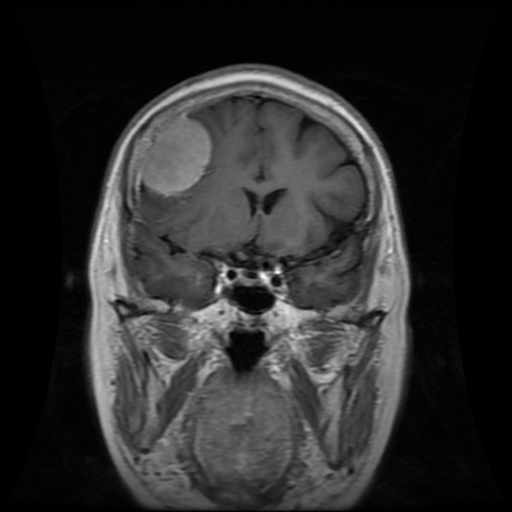meningioma: (140, 115, 212, 194)
